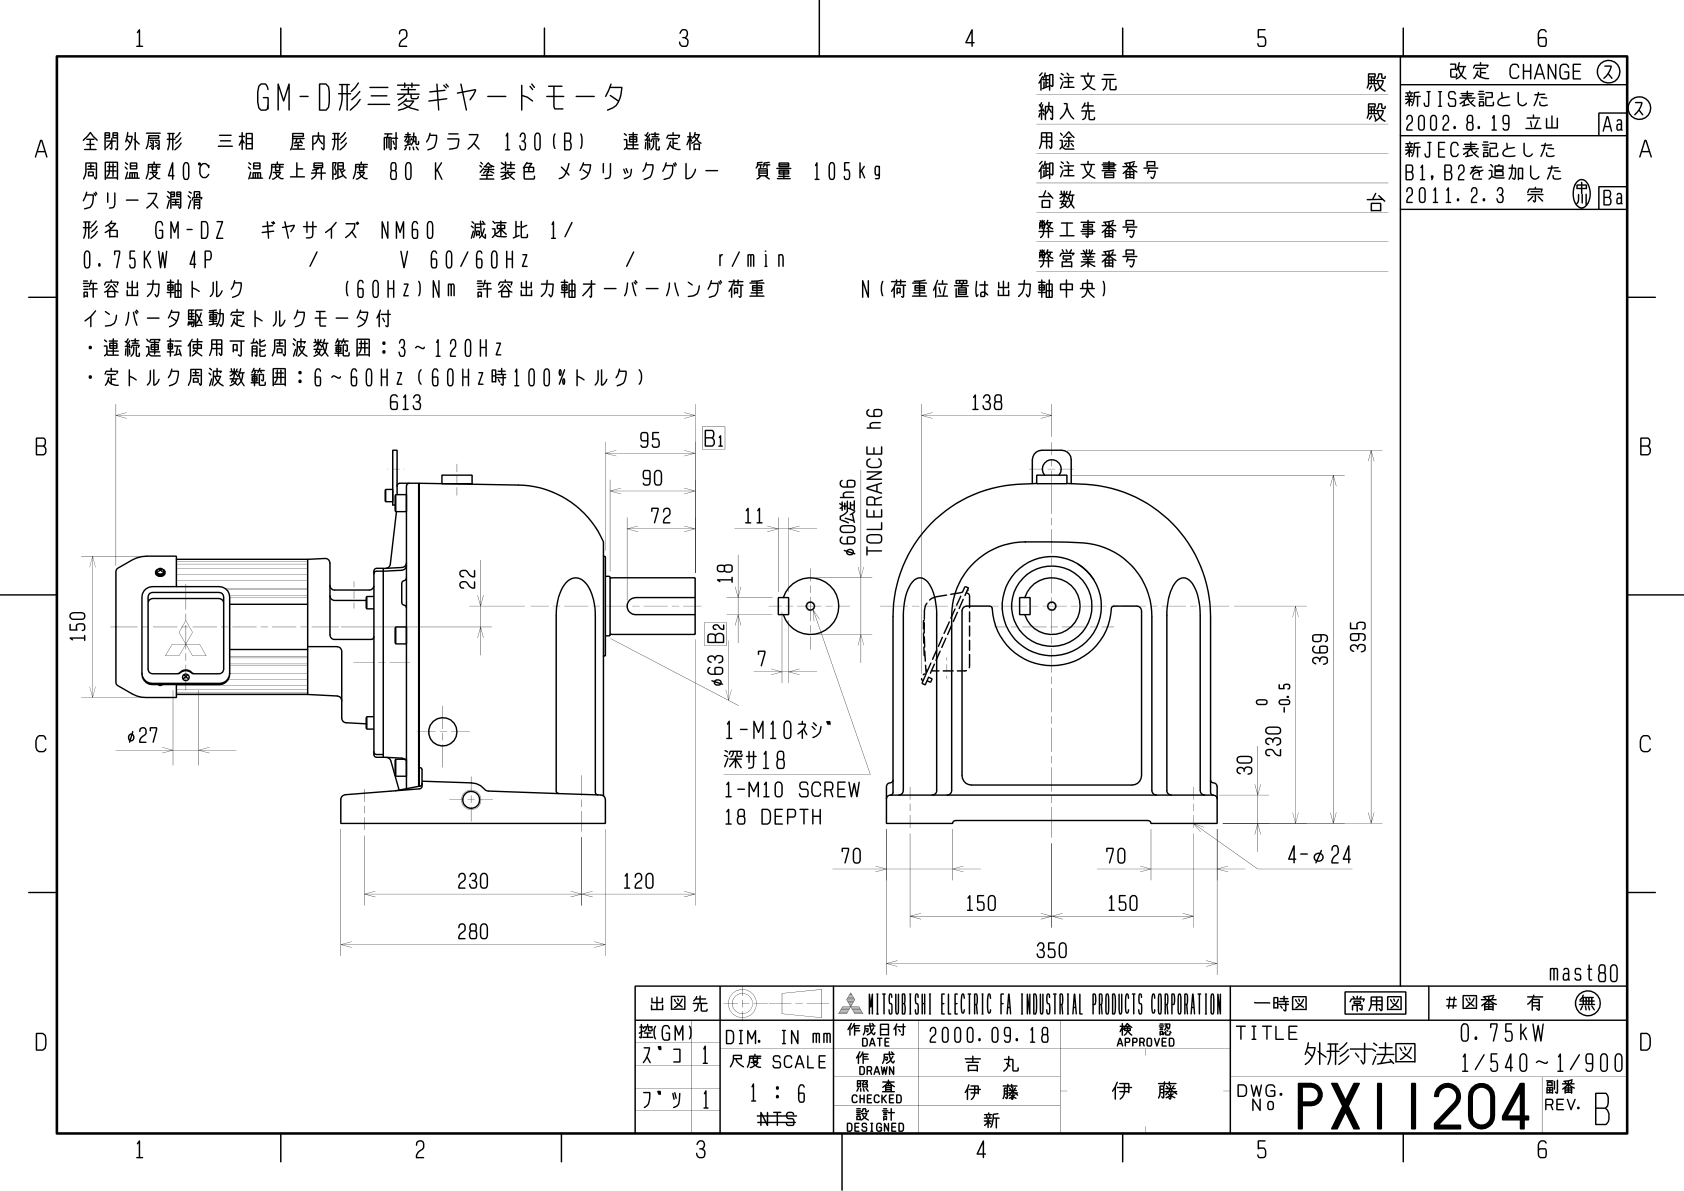GM_D_インバータ屋内_三相_脚: (55, 388, 1389, 974)
